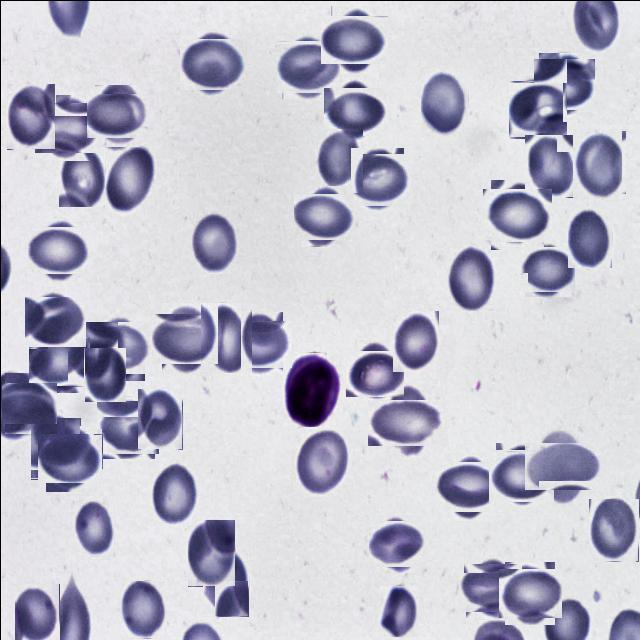leukocyte: (281, 352, 342, 426)
red blood cell: (375, 391, 438, 454), (102, 143, 156, 215), (531, 435, 593, 497), (486, 183, 547, 245), (572, 129, 626, 199), (200, 302, 252, 373), (156, 308, 216, 368), (293, 429, 348, 494), (182, 34, 242, 93), (439, 456, 498, 516), (89, 318, 148, 377), (491, 446, 550, 504), (445, 244, 496, 310), (98, 398, 156, 456), (348, 150, 406, 208), (38, 98, 96, 156), (278, 38, 336, 96), (325, 10, 383, 68), (420, 67, 468, 137), (41, 428, 98, 486), (524, 134, 576, 197), (229, 315, 286, 372), (508, 80, 564, 138), (6, 82, 55, 148), (187, 519, 235, 586), (536, 55, 592, 112), (588, 498, 638, 561), (31, 332, 87, 388), (27, 293, 83, 349), (462, 560, 518, 616), (30, 221, 86, 277), (501, 564, 557, 620), (326, 82, 382, 138), (30, 416, 80, 478), (148, 464, 197, 526), (202, 551, 248, 616), (296, 188, 351, 242), (392, 310, 439, 372), (90, 88, 143, 142), (190, 210, 236, 272), (58, 144, 104, 206), (318, 128, 362, 192), (137, 388, 182, 449), (348, 346, 400, 398), (371, 517, 423, 569), (567, 208, 612, 268), (120, 580, 166, 638), (0, 377, 51, 429), (14, 583, 59, 640), (522, 244, 572, 294), (72, 500, 114, 556), (82, 347, 124, 401), (378, 585, 418, 637)
